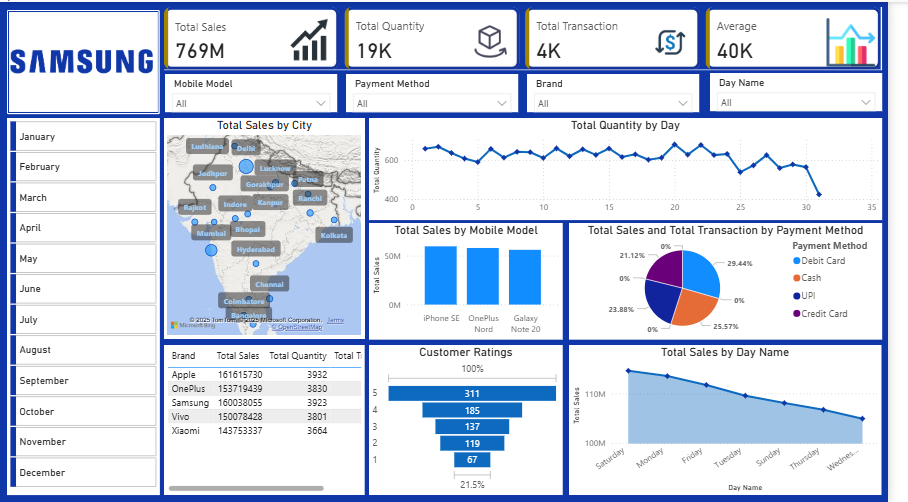

What the dashboard file says about the page in this screenshot:
{"tool":"powerbi","page":{"name":"Page 1","canvas":[1280,720],"ordinal":0},"visuals":[{"type":"shape","box":[10.1,11.5,220.3,149.8],"z":0},{"type":"image","box":[10.1,13,220.3,145.4],"z":1000},{"type":"shape","box":[10.1,167,220.3,542.9],"z":2000},{"type":"advancedSlicerVisual","fields":{"Values":["Sales_Data.DATE.Variation.Date Hierarchy.Month"]},"box":[10.1,167,220.3,542.9],"z":3000},{"type":"cardVisual","fields":{"Data":["Sales_Data.Total Sales","Sales_Data.Total Quantity","Sales_Data.Total Transaction","Sales_Data.Average"]},"box":[236.2,7.2,1033.9,90.7],"z":4000},{"type":"map","fields":{"Category":["Sales_Data.City"],"Size":["Sales_Data.Total Sales"]},"box":[236.2,167,289.4,318.2],"z":5000},{"type":"lineChart","fields":{"Y":["Sales_Data.Total Quantity"],"Category":["Sales_Data.DATE.Variation.Date Hierarchy.Month","Sales_Data.DATE.Variation.Date Hierarchy.Day"]},"box":[531.4,167,738.7,146.9],"z":6000},{"type":"clusteredColumnChart","fields":{"Category":["Sales_Data.Mobile Model"],"Y":["Sales_Data.Total Sales"]},"box":[531.4,318.2,279.4,168.5],"z":7000},{"type":"pieChart","fields":{"Category":["Sales_Data.Payment Method"],"Y":["Sales_Data.Total Sales","Sales_Data.Total Transaction"]},"box":[819.4,318.2,450.7,168.5],"z":8000},{"type":"funnel","title":" Customer Ratings","fields":{"Category":["Sales_Data.Customer Ratings"],"Y":["CountNonNull(Sales_Data.Customer Name)"]},"box":[531.4,493.9,279.4,216],"z":9000},{"type":"areaChart","fields":{"Category":["Sales_Data.Day Name"],"Y":["Sales_Data.Total Sales"]},"box":[819.4,493.9,450,216],"z":10000},{"type":"tableEx","fields":{"Values":["Sales_Data.Brand","Sales_Data.Total Sales","Sales_Data.Total Quantity","Sales_Data.Total Transaction"]},"box":[236.2,493.9,289.4,216],"z":11000},{"type":"slicer","fields":{"Values":["Sales_Data.Mobile Model"]},"box":[237.6,103.7,247.7,54.7],"z":12000},{"type":"slicer","fields":{"Values":["Sales_Data.Payment Method"]},"box":[498.2,103.7,247.7,54.7],"z":12001},{"type":"slicer","fields":{"Values":["Sales_Data.Brand"]},"box":[758.9,103.7,247.7,54.7],"z":12002},{"type":"slicer","fields":{"Values":["Sales_Data.Day Name"]},"box":[1022.4,102.2,247.7,54.7],"z":12003}]}

Visuals, with their boxes in screenshot pixels (x1, y1, x2, y2), scaled from the page's 1280x720 canvas onto the 908x502 screenshot:
shape: box(7, 8, 163, 112)
image: box(7, 9, 163, 110)
shape: box(7, 116, 163, 495)
advancedSlicerVisual - Sales_Data.DATE.Variation.Date Hierarchy.Month: box(7, 116, 163, 495)
cardVisual - Sales_Data.Total Sales x Sales_Data.Total Quantity: box(168, 5, 901, 68)
map - Sales_Data.City x Sales_Data.Total Sales: box(168, 116, 373, 338)
lineChart - Sales_Data.Total Quantity x Sales_Data.DATE.Variation.Date Hierarchy.Month: box(377, 116, 901, 219)
clusteredColumnChart - Sales_Data.Mobile Model x Sales_Data.Total Sales: box(377, 222, 575, 339)
pieChart - Sales_Data.Payment Method x Sales_Data.Total Sales: box(581, 222, 901, 339)
" Customer Ratings" funnel: box(377, 344, 575, 495)
areaChart - Sales_Data.Day Name x Sales_Data.Total Sales: box(581, 344, 900, 495)
tableEx - Sales_Data.Brand x Sales_Data.Total Sales: box(168, 344, 373, 495)
slicer - Sales_Data.Mobile Model: box(169, 72, 344, 110)
slicer - Sales_Data.Payment Method: box(353, 72, 529, 110)
slicer - Sales_Data.Brand: box(538, 72, 714, 110)
slicer - Sales_Data.Day Name: box(725, 71, 901, 109)
